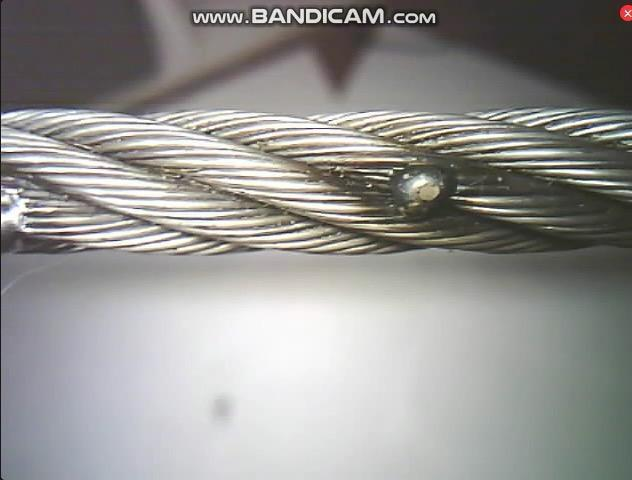thunderbolt: (360, 144, 470, 228)
